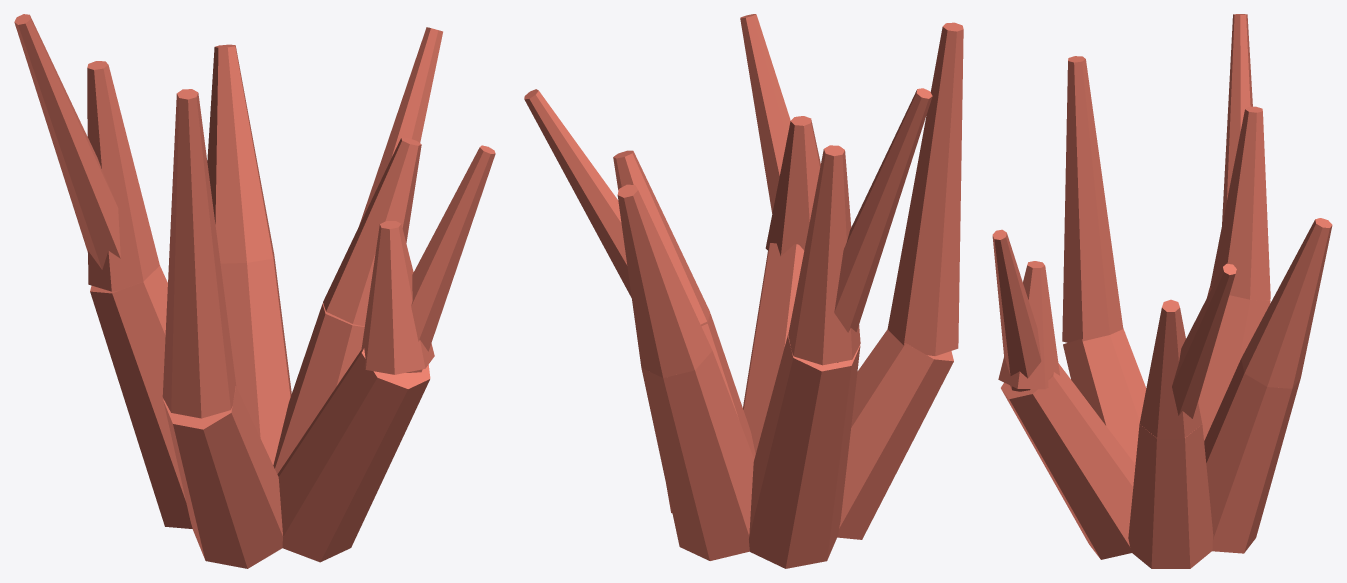
The model's file is coral_branch.glb.
3 renders of one model, left to right at view 1: azimuth 30°, elevation 25°; view 2: azimuth 150°, elevation 25°; view 3: azimuth 270°, elevation 25°, orthographic. The views are drawn at different scales.
Parts seen in each view (by area): view 1: CORAL_BRANCH; view 2: CORAL_BRANCH; view 3: CORAL_BRANCH.
Part boxes in pixels (x1,y1,x2,y2): CORAL_BRANCH: [14, 14, 495, 568]; CORAL_BRANCH: [524, 14, 963, 568]; CORAL_BRANCH: [992, 14, 1332, 568].
Size of the model in its own units: 1.09 by 1.32 by 0.9107.
